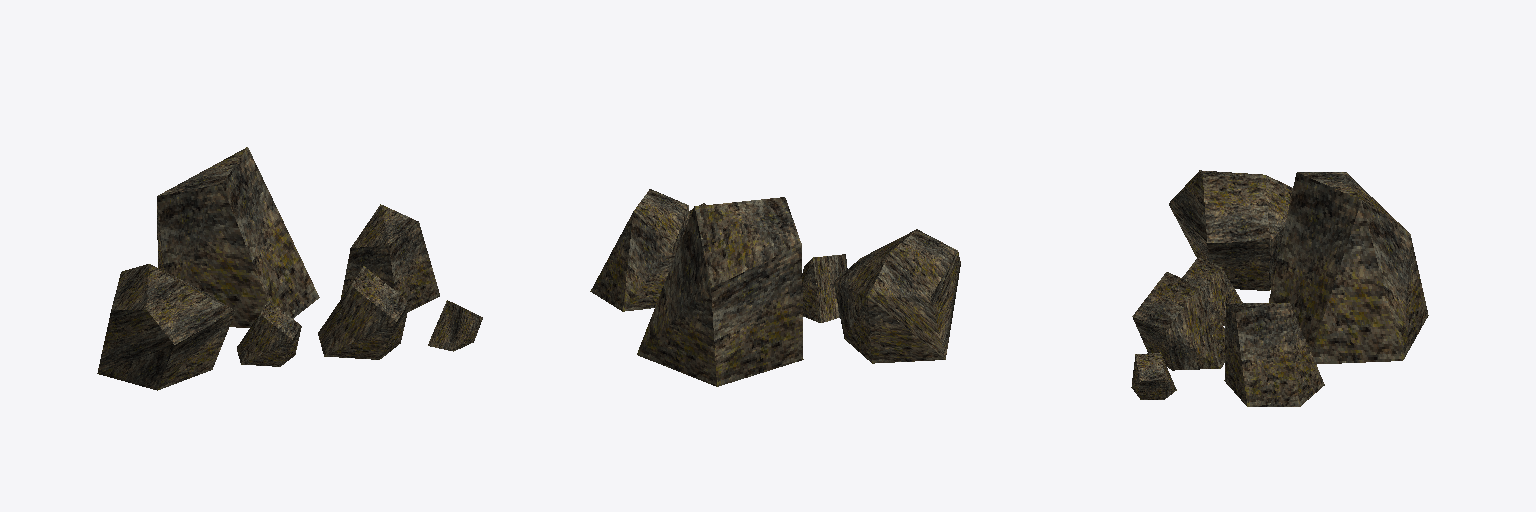
The picture shows the model from 3 angles: view 1: azimuth 30°, elevation 25°; view 2: azimuth 150°, elevation 25°; view 3: azimuth 270°, elevation 25°; orthographic projection.
Parts seen in each view (by area): view 1: Rocks3; view 2: Rocks3; view 3: Rocks3.
Boxes of the visible parts, x1=… form: Rocks3: x1=97, y1=147, x2=482, y2=390; Rocks3: x1=590, y1=189, x2=960, y2=386; Rocks3: x1=1131, y1=170, x2=1428, y2=406.
Bounding box in the file's own units: 19.59 × 7.94 × 14.99.
1 materials, 1 textured.